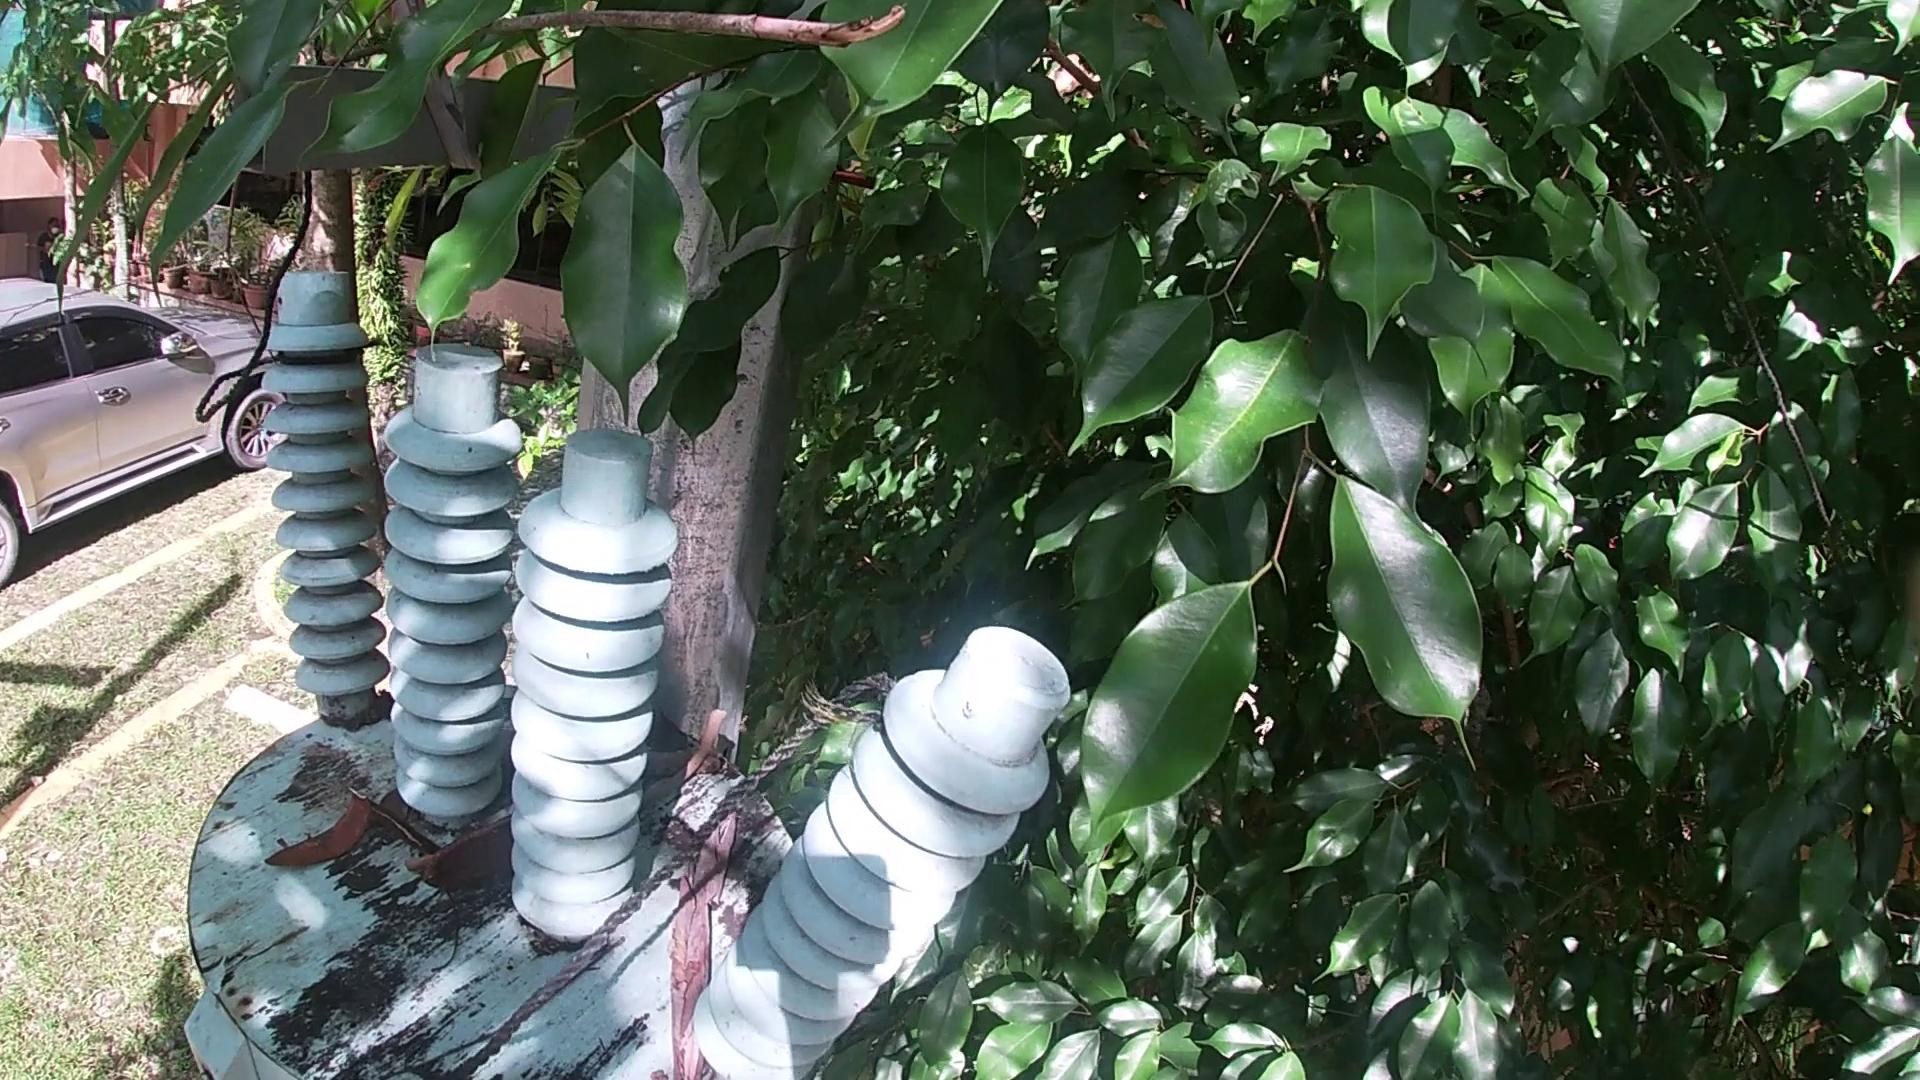leaf: (375, 800, 430, 851)
mahogany fruit: (268, 790, 363, 901), (423, 814, 520, 893)
tree branch: (291, 1, 926, 80), (662, 790, 761, 1080), (645, 709, 727, 820), (632, 752, 727, 783), (396, 847, 433, 880)
